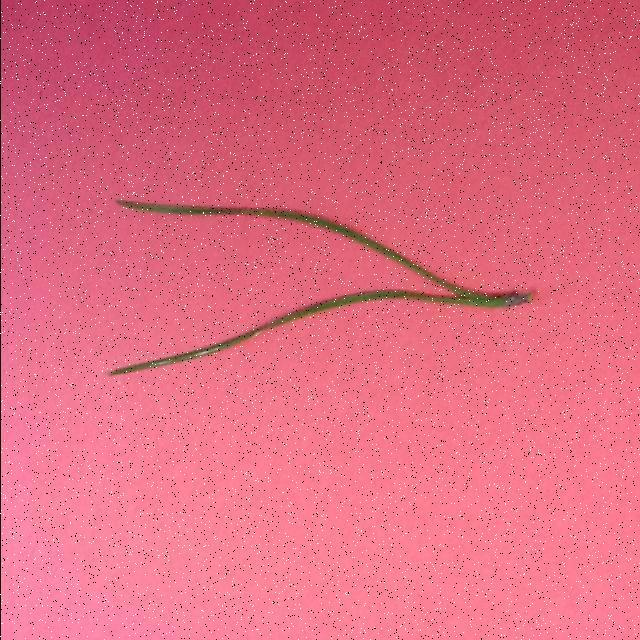foliage: (105, 197, 528, 377)
